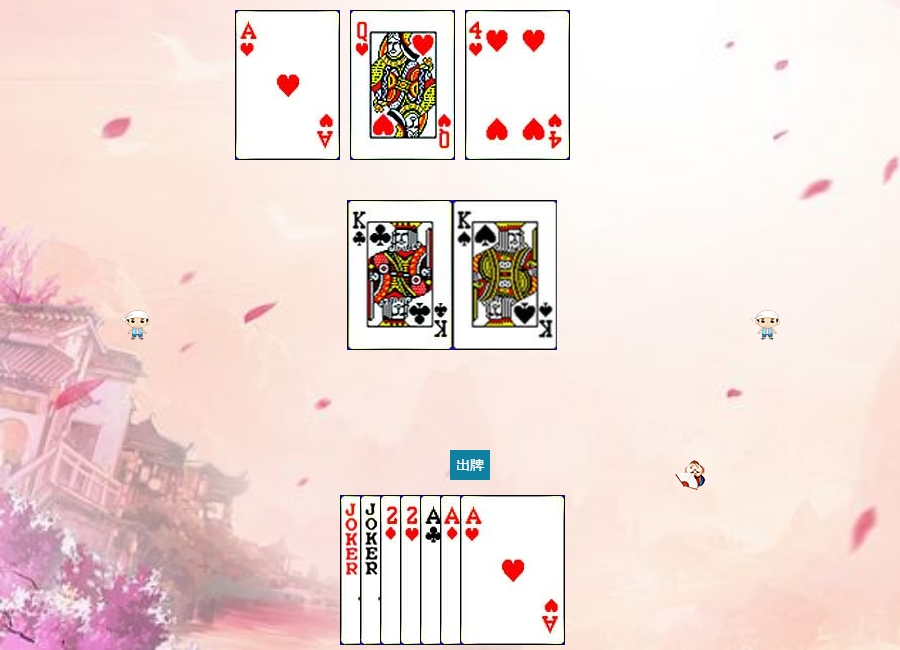12~3: (350, 10, 455, 160)
13~2: (348, 200, 453, 350)
13~4: (453, 200, 558, 350)
14~1: (440, 495, 545, 645)
14~2: (420, 495, 525, 645)
14~3: (235, 10, 340, 160), (460, 495, 565, 645)
15~1: (380, 495, 485, 645)
15~3: (400, 495, 505, 645)
17~3: (360, 495, 465, 645)
18~4: (340, 495, 445, 645)
4~3: (465, 10, 570, 160)
